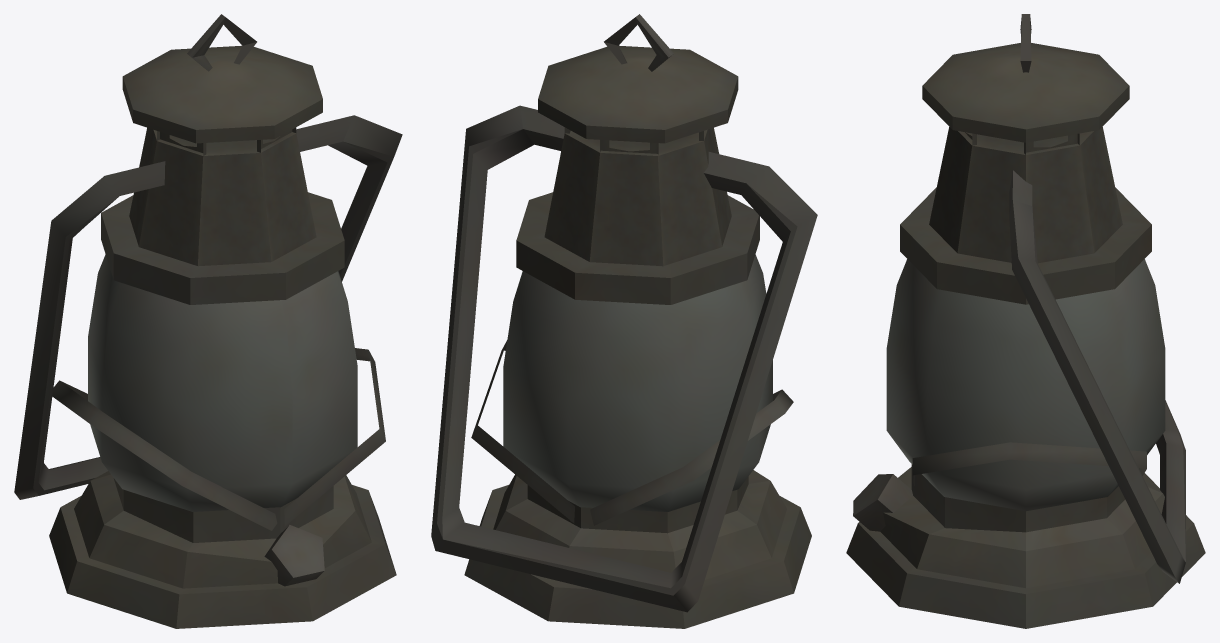
The model's file is GEO_Lantern.fbx.
The picture shows the model from 3 angles, left to right: view 1: azimuth 30°, elevation 25°; view 2: azimuth 150°, elevation 25°; view 3: azimuth 270°, elevation 25°; orthographic projection.
Visible parts, largest first — view 1: GEO_Lantern; view 2: GEO_Lantern; view 3: GEO_Lantern.
Boxes of the visible parts, x1,y1,x2,y2 form: GEO_Lantern: (14,14,402,628); GEO_Lantern: (431,14,817,628); GEO_Lantern: (846,14,1205,628).
Size of the model in its own units: 0.6668 by 0.9785 by 0.5913.
